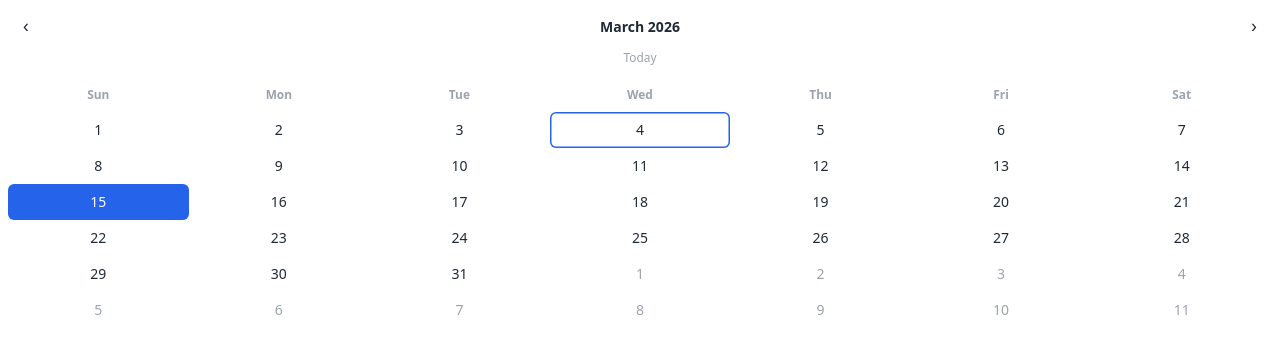
CalendarWidget quick navigation › full flow: heading → month picker → year picker → select year → select month → day grid
The width and height of the screenshot is (1280, 344).
// Click heading → month picker
Step 1. Click the button with aria-label "choose month and year" → click(640, 27), box x1=592 y1=16 x2=688 y2=38
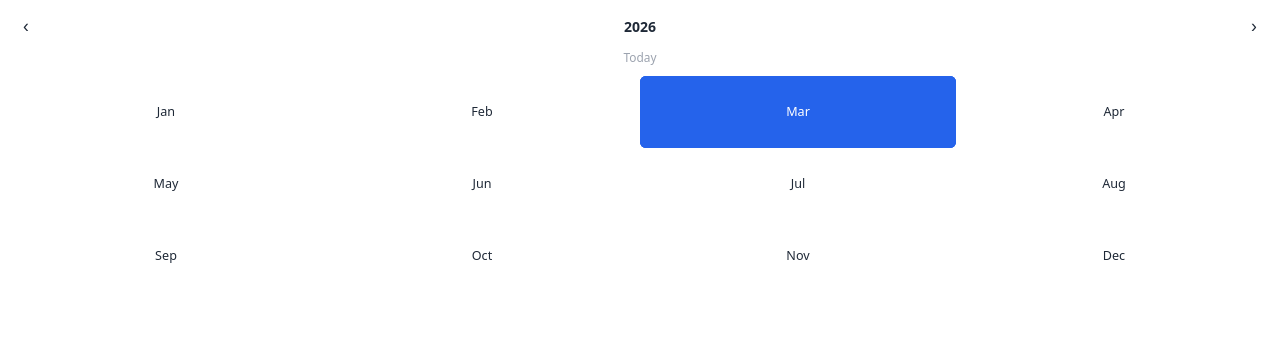
Check: the table named "month picker" is shown
// Click year label → year picker
Step 2. Click the button named "choose year" → click(640, 27), box x1=616 y1=16 x2=664 y2=38
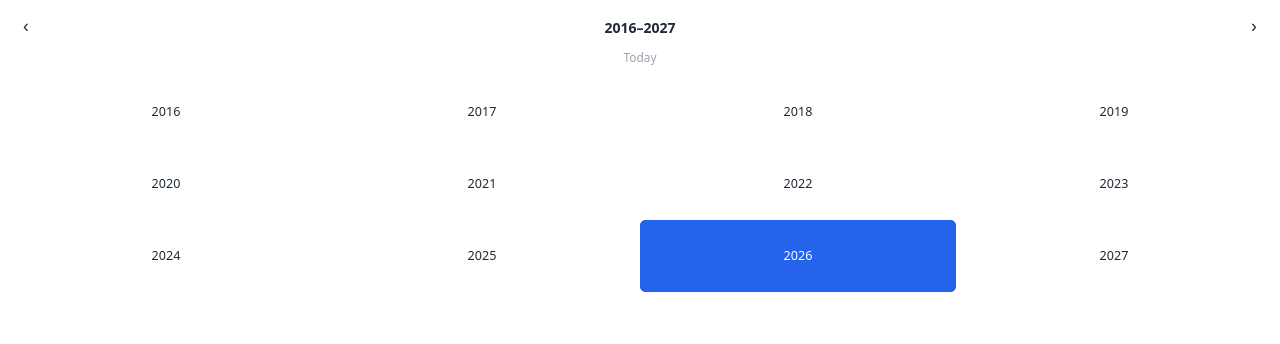
Check: the table named "year picker" is shown
// Select year 2022 (within the 2016-2027 range)
Step 3. Click the text "2022" → click(798, 184), box x1=640 y1=148 x2=956 y2=220
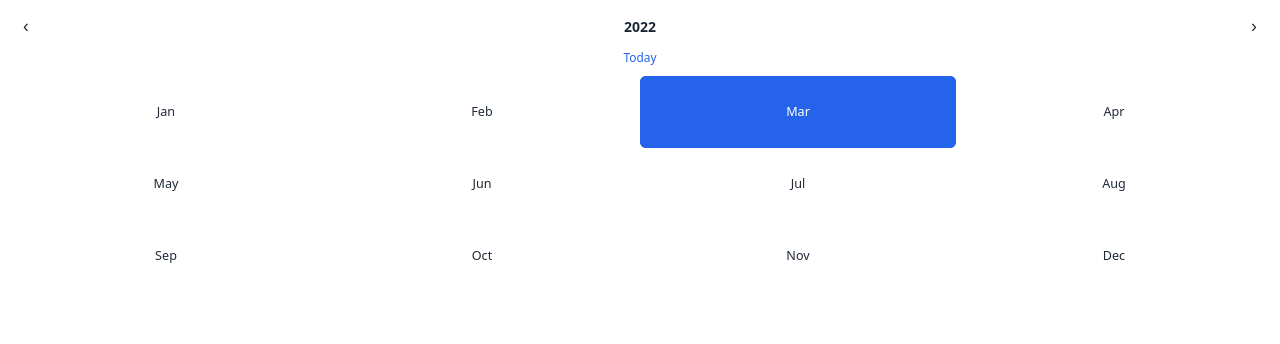
Check: the table named "month picker, 2022" is shown
// Select August
Step 4. Click the text "Aug" → click(1114, 184), box x1=956 y1=148 x2=1272 y2=220
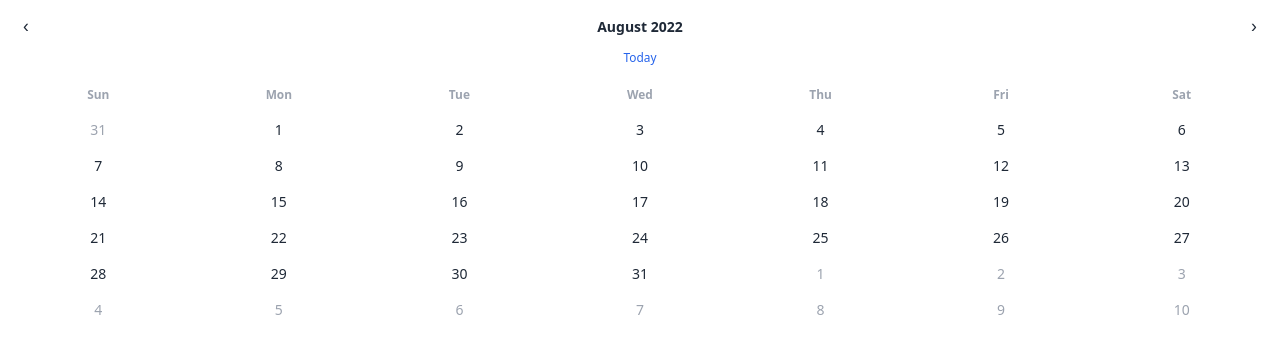
Check: the table named "Calendar" is shown
Check: the button with aria-label "currently august 2022" is shown, box x1=589 y1=16 x2=691 y2=38
